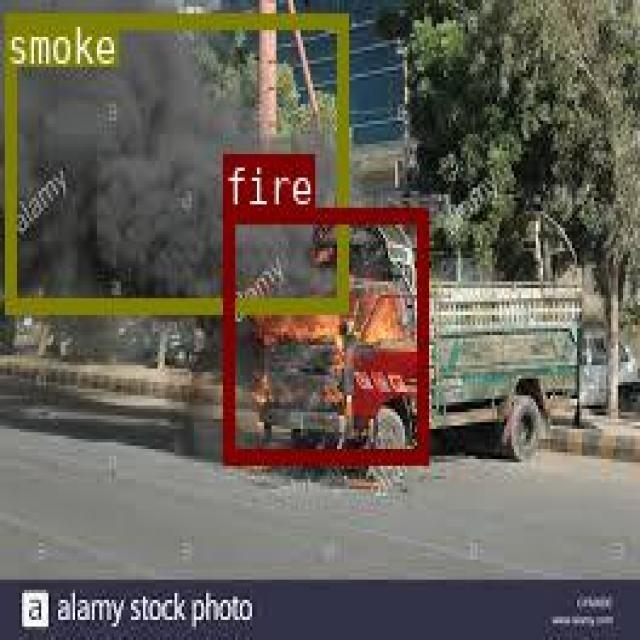fire: (223, 206, 424, 460)
smoke: (4, 10, 346, 309)
